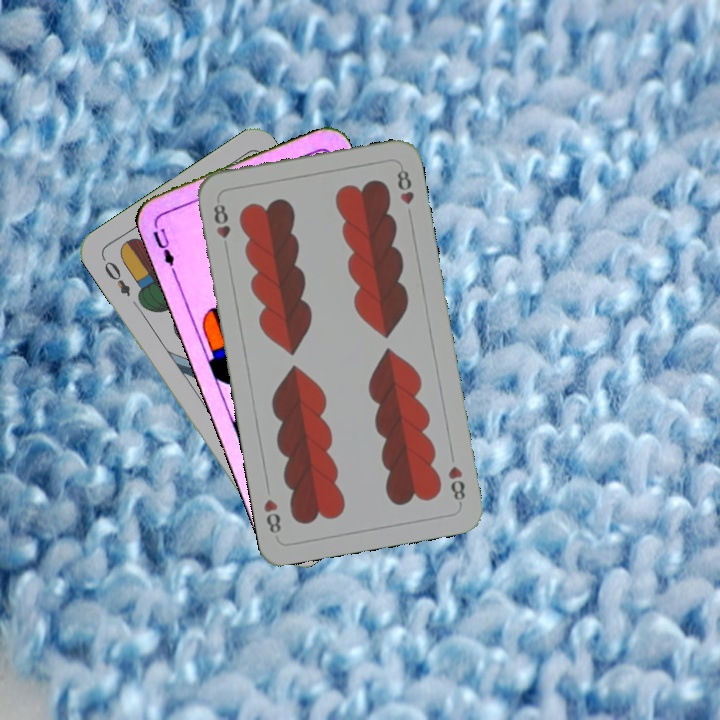EO: (98, 253, 133, 299)
EU: (148, 218, 180, 275)
H8: (209, 200, 233, 254), (444, 462, 468, 508)
